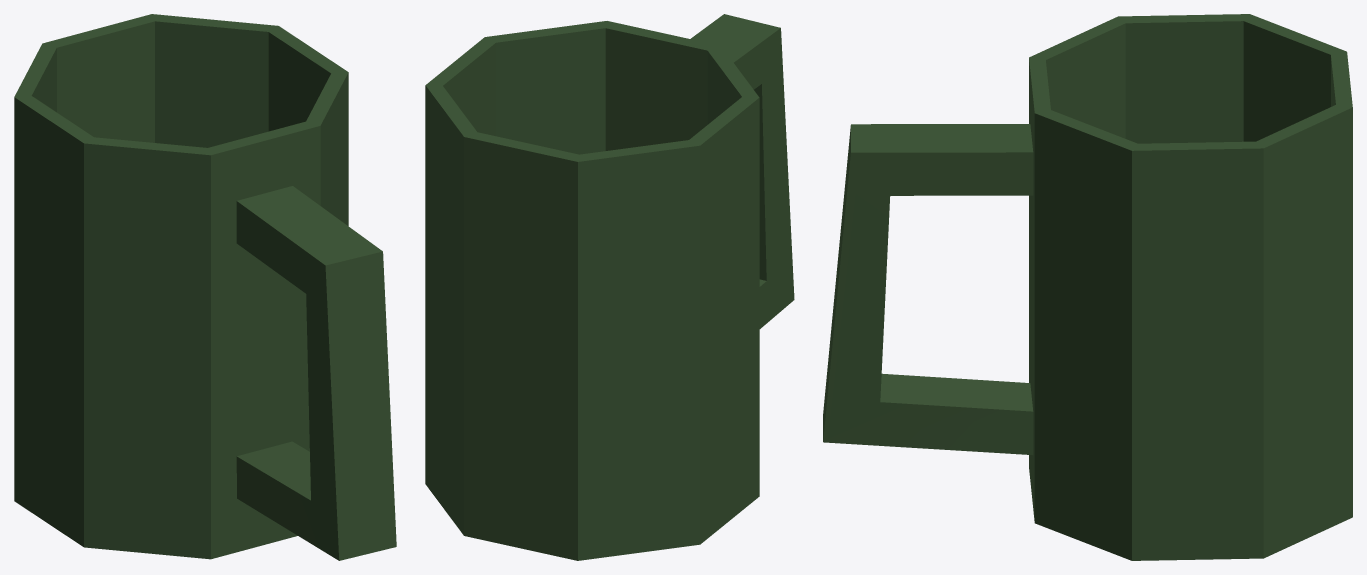
File: Cup_2.fbx
3 views of the same model, side by side, from view 1: azimuth 30°, elevation 25°; view 2: azimuth 150°, elevation 25°; view 3: azimuth 270°, elevation 25° (orthographic). The views are drawn at different scales.
Parts seen in each view (by area): view 1: Cup_2; view 2: Cup_2; view 3: Cup_2.
Part boxes in pixels (box(x1,y1,x2,y2)): Cup_2: box(14, 14, 396, 560); Cup_2: box(425, 14, 794, 560); Cup_2: box(823, 14, 1352, 560).
Bounding box in the file's own units: 4.15 × 5.79 × 6.78.
